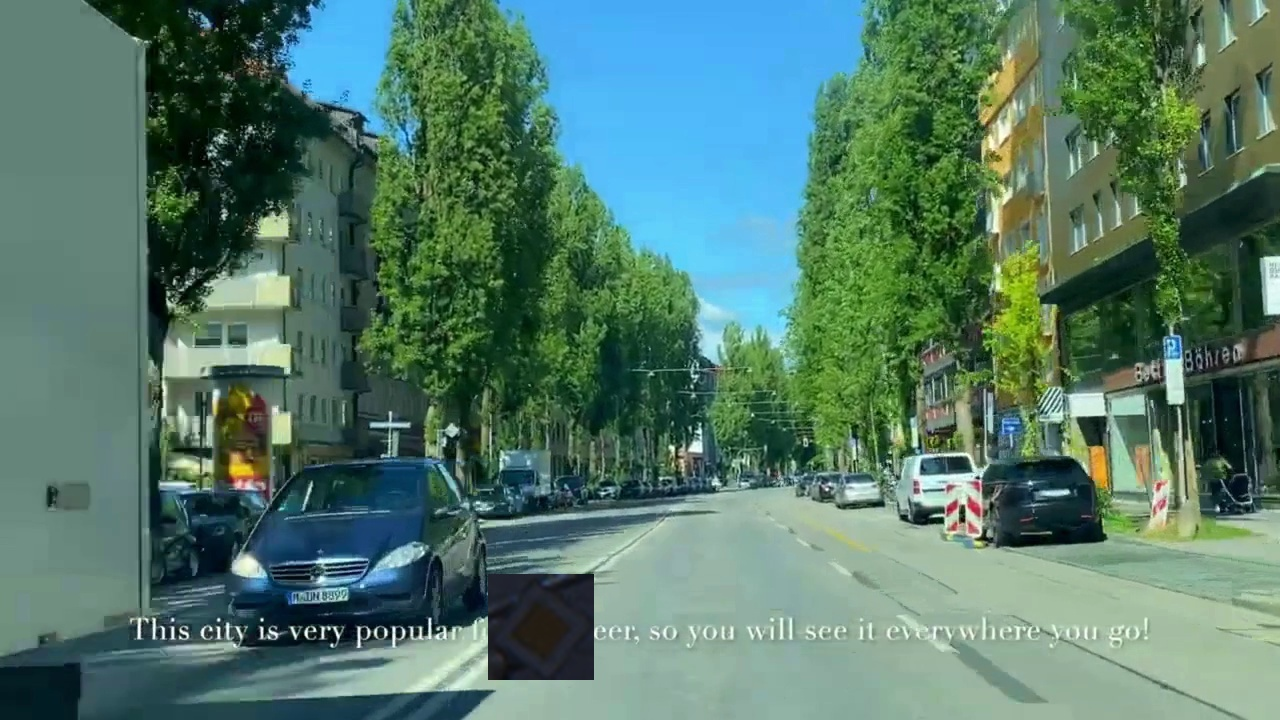Priority road: (488, 574, 594, 680)
